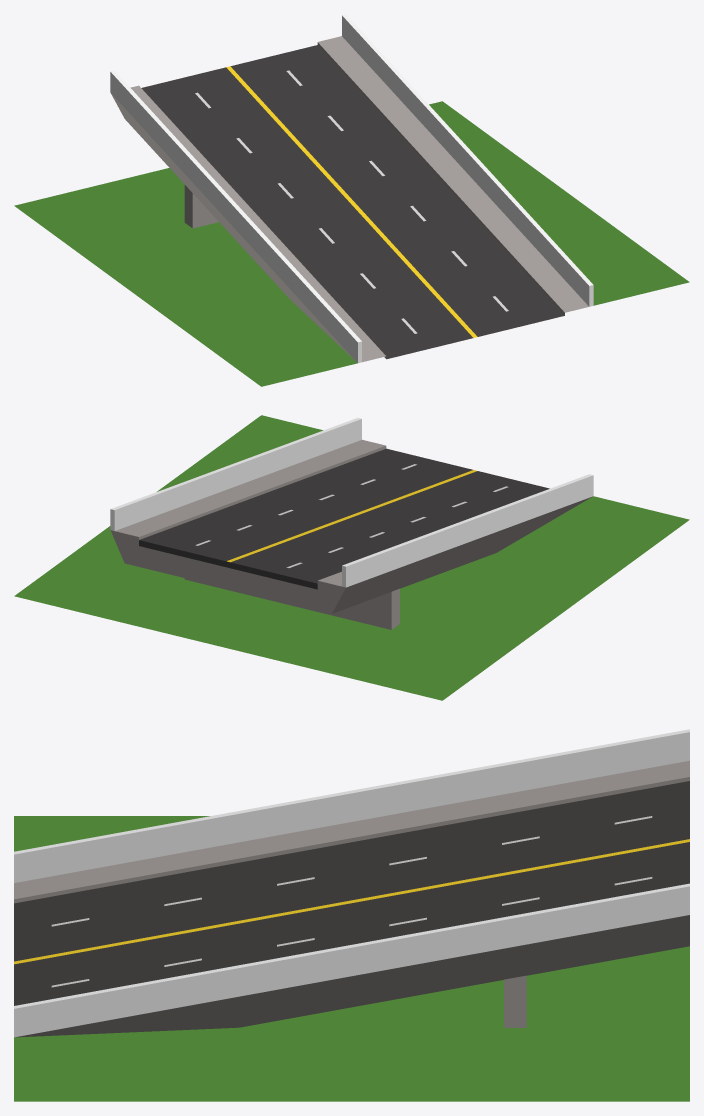
Rendered from tiles-nb_tile-bridge-mainroad-hill-nb.fbx.
3 views of the same model, one above another, from view 1: azimuth 30°, elevation 25°; view 2: azimuth 150°, elevation 25°; view 3: azimuth 270°, elevation 25° (orthographic). The views are drawn at different scales.
Visible parts, largest first — view 1: tiles_nb_tile_bridge_mainroad_hill_nb; view 2: tiles_nb_tile_bridge_mainroad_hill_nb; view 3: tiles_nb_tile_bridge_mainroad_hill_nb.
Part boxes in pixels (x1=…): tiles_nb_tile_bridge_mainroad_hill_nb: x1=14, y1=14, x2=689, y2=386; tiles_nb_tile_bridge_mainroad_hill_nb: x1=14, y1=415, x2=689, y2=700; tiles_nb_tile_bridge_mainroad_hill_nb: x1=14, y1=729, x2=689, y2=1101.
Size of the model in its own units: 200 by 50.67 by 200.
